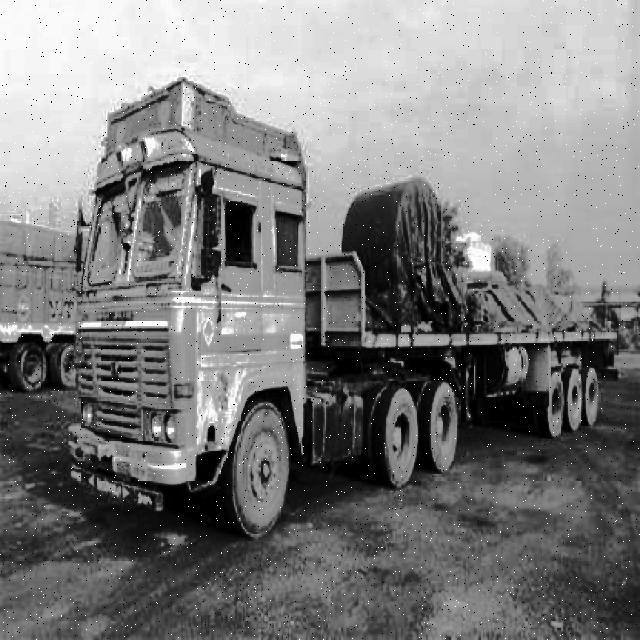HCV: (99, 136, 586, 494)
